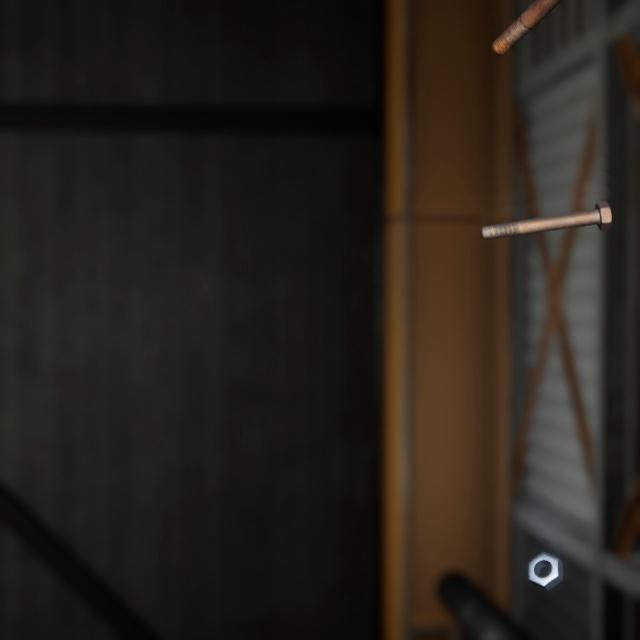bolt: (475, 181, 616, 229), (487, 0, 559, 52)
nut: (523, 525, 566, 572)
